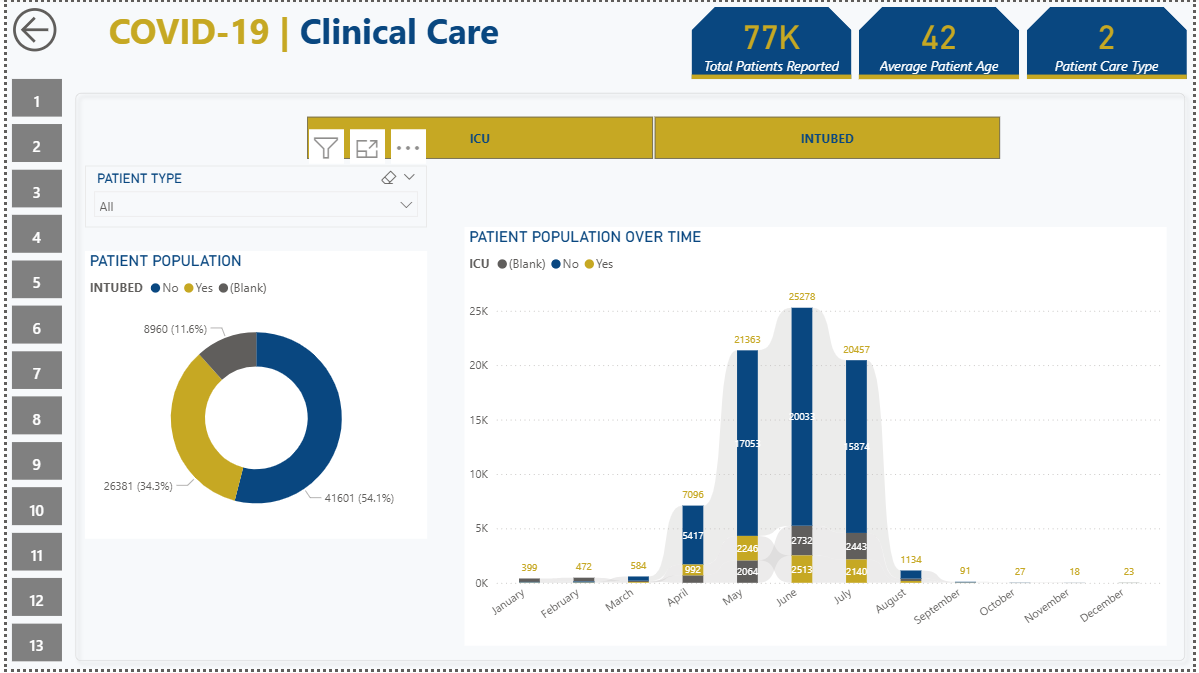

What the dashboard file says about the page in this screenshot:
{"tool":"powerbi","page":{"name":"Clinical Care","canvas":[1280,720],"ordinal":2},"visuals":[{"type":"shape","box":[64.8,89.1,1216,631.5],"z":0},{"type":"textbox","box":[64.8,0,668.7,89.1],"z":1000},{"type":"donutChart","title":"PATIENT POPULATION","fields":{"Category":["Covid Data.ICU","Covid Data.INTUBED"],"Y":["Covid Data.NO. OF PATIENTS"]},"box":[84.2,268.8,369.2,310.9],"z":2000},{"type":"advancedSlicerVisual","title":"MEDICAL UNIT","fields":{"Values":["Covid Data.MEDICAL_UNIT"]},"box":[0,77.7,64.8,643],"z":3000},{"type":"slicer","fields":{"Values":["Clinical Care Factors.Clinical Care Factors"]},"box":[297.9,116.6,798.3,59.9],"z":4000},{"type":"actionButton","box":[0,0,72.9,59.9],"z":5000},{"type":"ribbonChart","title":"PATIENT POPULATION OVER TIME","fields":{"Series":["Covid Data.ICU"],"Y":["Covid Data.NO. OF PATIENTS"],"Category":["Covid Data.DATE_DIED.Variation.Date Hierarchy.Year","Covid Data.DATE_DIED.Variation.Date Hierarchy.Month","Covid Data.DATE_DIED.Variation.Date Hierarchy.Day"]},"box":[493.9,242.9,757.8,451.8],"z":6000},{"type":"slicer","fields":{"Values":["Covid Data.PATIENT_TYPE"]},"box":[84.2,176.5,369.2,66.4],"z":7000},{"type":"cardVisual","fields":{"Data":["Covid Data.NO. OF PATIENTS","Avg(Covid Data.AGE)","Count(Covid Data.PATIENT_TYPE)"]},"box":[733.5,0,546.5,88.9],"z":8000}]}

Visuals, with their boxes in screenshot pixels (x1, y1, x2, y2), scaled from the page's 1280x720 canvas onto the 1199x673 screenshot:
shape: l=61, t=83, r=1198, b=672
textbox: l=61, t=0, r=687, b=83
"PATIENT POPULATION" donutChart: l=79, t=251, r=425, b=542
"MEDICAL UNIT" advancedSlicerVisual: l=0, t=73, r=61, b=672
slicer - Clinical Care Factors.Clinical Care Factors: l=279, t=109, r=1027, b=165
actionButton: l=0, t=0, r=68, b=56
"PATIENT POPULATION OVER TIME" ribbonChart: l=463, t=227, r=1172, b=649
slicer - Covid Data.PATIENT_TYPE: l=79, t=165, r=425, b=227
cardVisual - Covid Data.NO. OF PATIENTS x Avg(Covid Data.AGE): l=687, t=0, r=1198, b=83
